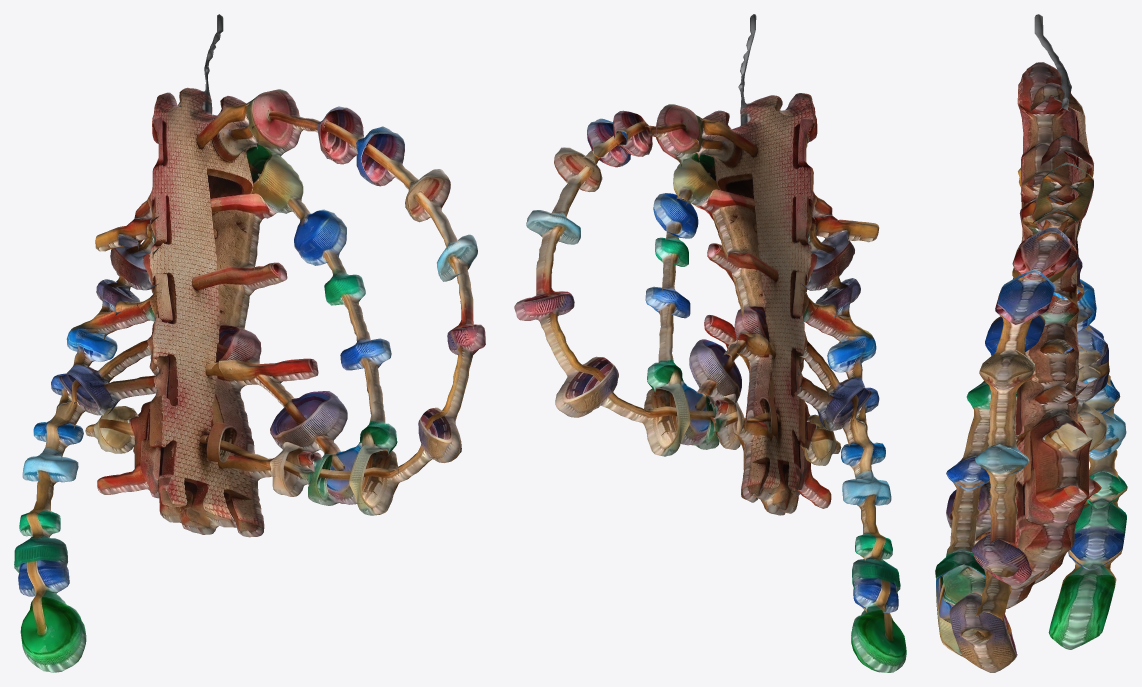
Rendered from hy3d-mov-029.glb.
The picture shows the model from 3 angles, left to right: view 1: azimuth 30°, elevation 25°; view 2: azimuth 150°, elevation 25°; view 3: azimuth 270°, elevation 25°; orthographic projection. The views are drawn at different scales.
Parts seen in each view (by area): view 1: world; view 2: world; view 3: world.
Boxes of the visible parts, x1,y1,x2,y2 form: world: (14,14,485,672); world: (514,14,906,672); world: (935,14,1127,672).
Size of the model in its own units: 1.63 by 2.27 by 0.5547.
Materials: 1 (1 with a texture image).
